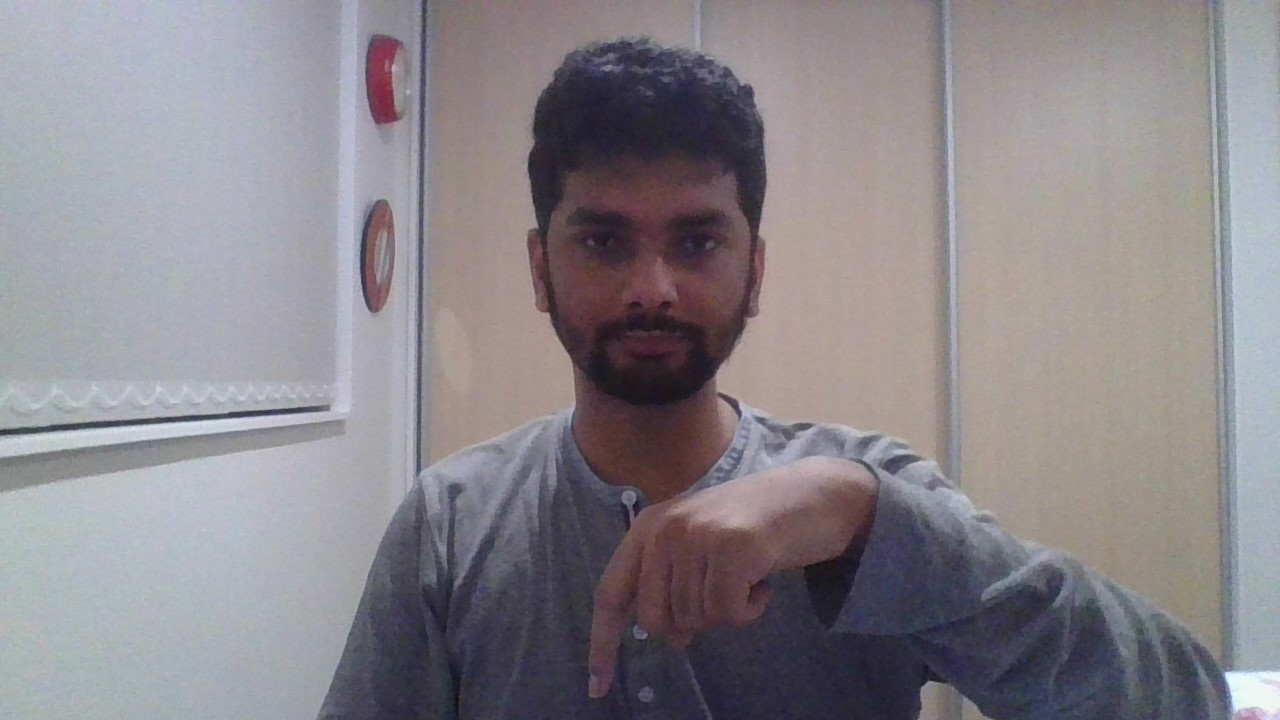below: (588, 455, 866, 698)
